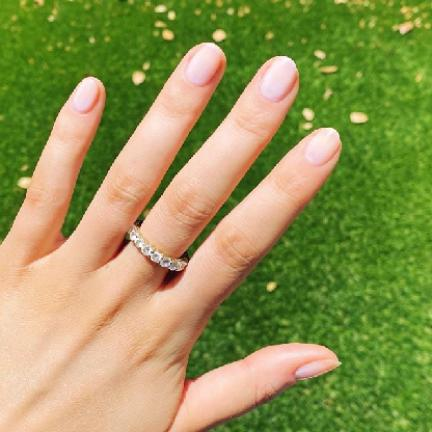Nail: (260, 57, 298, 102), (185, 43, 223, 86), (305, 128, 341, 165), (72, 77, 99, 114), (294, 359, 340, 380)
